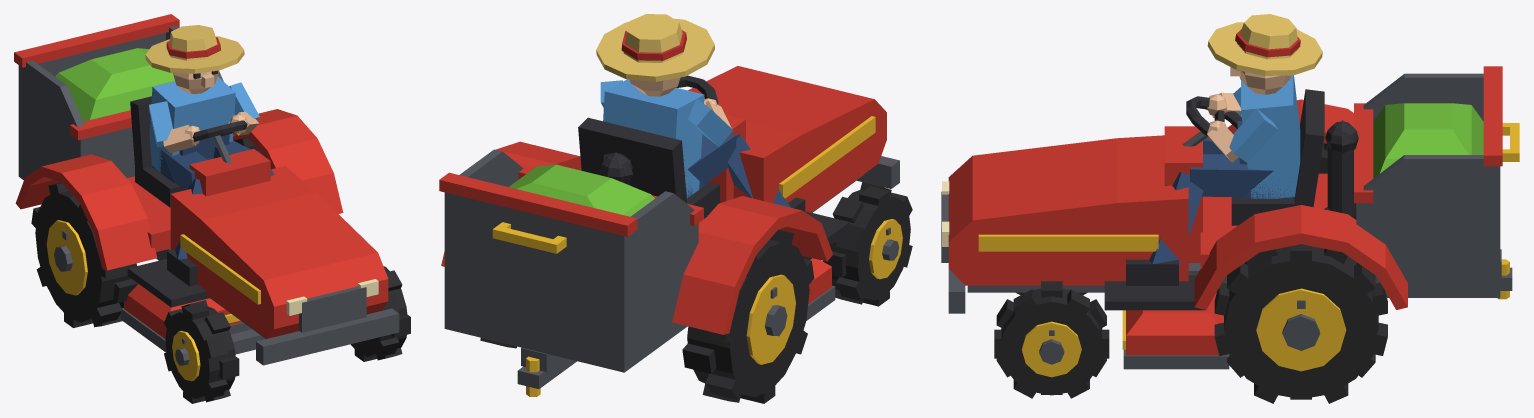
The model's file is mower.glb.
3 renders of one model, left to right at view 1: azimuth 30°, elevation 25°; view 2: azimuth 150°, elevation 25°; view 3: azimuth 270°, elevation 25°, orthographic. The views are drawn at different scales.
Parts seen in each view (by area): view 1: hood, fender_R, bag_side_R, grain, tyre_BR, fender_L, bag_lips, bumper, torso, tyre_FR, console, tread_FR (+29 smaller); view 2: bag_back, hood, fender_R, bag_side_R, tyre_BR, seat_back, torso, bag_lips, grain, hat_brim, tyre_FR, tread_FR (+24 smaller); view 3: hood, bag_side_L, tyre_BL, fender_L, grain, tyre_FL, torso, rim_BL, deck_shell, tread_BL, bag_lips, bag_side_R (+25 smaller).
Part boxes in pixels (x1=…): hood: x1=170, y1=166, x2=388, y2=338; fender_R: x1=15, y1=154, x2=157, y2=270; bag_side_R: x1=18, y1=60, x2=87, y2=180; grain: x1=55, y1=48, x2=174, y2=121; tyre_BR: x1=35, y1=191, x2=136, y2=322; fender_L: x1=233, y1=109, x2=343, y2=213; bag_lips: x1=14, y1=14, x2=179, y2=140; bumper: x1=256, y1=308, x2=399, y2=365; torso: x1=149, y1=76, x2=235, y2=173; tyre_FR: x1=165, y1=306, x2=235, y2=398; console: x1=189, y1=149, x2=270, y2=196; tread_FR: x1=164, y1=300, x2=239, y2=403; bag_back: x1=453, y1=194, x2=615, y2=370; hood: x1=688, y1=66, x2=886, y2=212; fender_R: x1=672, y1=196, x2=832, y2=334; bag_side_R: x1=616, y1=191, x2=698, y2=372; tyre_BR: x1=687, y1=239, x2=809, y2=396; seat_back: x1=578, y1=117, x2=686, y2=203; torso: x1=603, y1=79, x2=704, y2=198; bag_lips: x1=439, y1=162, x2=703, y2=236; grain: x1=509, y1=164, x2=654, y2=216; hat_brim: x1=596, y1=18, x2=714, y2=81; tyre_FR: x1=830, y1=189, x2=910, y2=300; tread_FR: x1=822, y1=182, x2=912, y2=306; hood: x1=948, y1=135, x2=1188, y2=285; bag_side_L: x1=1356, y1=155, x2=1500, y2=297; tyre_BL: x1=1224, y1=246, x2=1378, y2=399; fender_L: x1=1194, y1=205, x2=1407, y2=309; grain: x1=1373, y1=103, x2=1483, y2=178; tyre_FL: x1=1000, y1=288, x2=1103, y2=395; torso: x1=1241, y1=75, x2=1300, y2=198; rim_BL: x1=1256, y1=288, x2=1346, y2=371; deck_shell: x1=1126, y1=293, x2=1226, y2=355; tread_BL: x1=1214, y1=244, x2=1387, y2=403; bag_lips: x1=1354, y1=66, x2=1502, y2=203; bag_side_R: x1=1363, y1=73, x2=1483, y2=121.
Size of the model in its own units: 1.33 by 1.48 by 2.41.
